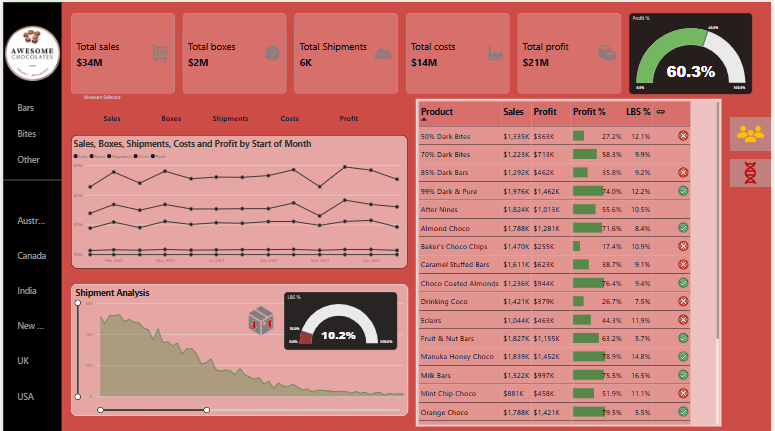

Layout of this report page (visuals, bound fields, positions):
{"tool":"powerbi","page":{"name":"Page 2","canvas":[1920,1080],"ordinal":0},"visuals":[{"type":"shape","box":[0,0,147.5,1080],"z":0},{"type":"cardVisual","fields":{"Data":["_Measures.Total sales","_Measures.Total boxes","_Measures.Total Shipments","_Measures.Total costs","_Measures.Total profit"]},"box":[170,27.5,1377.5,202.5],"z":1000},{"type":"gauge","fields":{"Y":["_Measures.% Profit"]},"box":[1565,27.5,307.5,202.5],"z":2000},{"type":"image","box":[0,27.5,147.5,202.5],"z":3000},{"type":"lineChart","fields":{"Y":["_Measures.Total sales","_Measures.Total boxes","_Measures.Total Shipments","_Measures.Total costs","_Measures.Total profit"],"Category":["calendar.Start of Month"]},"box":[170,332,842,334],"z":4000},{"type":"advancedSlicerVisual","fields":{"Values":["Measure Selector.Measure Selector"]},"box":[197.5,230,742.5,102.5],"z":5000},{"type":"stackedAreaChart","title":"Shipment Analysis","fields":{"Category":["shipments.Boxes (bins)"],"Y":["_Measures.Total Shipments"]},"box":[170,705,842.5,330],"z":6000},{"type":"gauge","fields":{"Y":["_Measures.LBS %"]},"box":[702.5,725,282.5,145],"z":7000},{"type":"image","box":[570,747.5,150,97.5],"z":8000},{"type":"tableEx","title":"Products Details","fields":{"Values":["products.Product","_Measures.Total sales","_Measures.Total profit","_Measures.% Profit","_Measures.LBS %","_Measures.Profit Target Indicator"]},"box":[1032.5,242.5,762.5,817.5],"z":10000},{"type":"image","title":"Products Icon","box":[1817.5,392.5,102.5,70],"z":11000},{"type":"image","title":"People Icon","box":[1817.5,287.5,102.5,85],"z":12000},{"type":"advancedSlicerVisual","fields":{"Values":["locations.Geo"]},"box":[17.5,500,112.5,535],"z":13000},{"type":"advancedSlicerVisual","fields":{"Values":["products.Category"]},"box":[17.5,230,112.5,197.5],"z":14000},{"type":"shape","box":[0,427.5,147.5,35],"z":15000}]}

Visuals, with their boxes in screenshot pixels (x1, y1, x2, y2):
shape: [0, 4, 58, 430]
cardVisual - _Measures.Total sales x _Measures.Total boxes: [67, 15, 610, 95]
gauge - _Measures.% Profit: [617, 15, 738, 95]
image: [0, 15, 58, 95]
lineChart - _Measures.Total sales x _Measures.Total boxes: [67, 135, 399, 267]
advancedSlicerVisual - Measure Selector.Measure Selector: [78, 95, 371, 135]
"Shipment Analysis" stackedAreaChart: [67, 282, 399, 412]
gauge - _Measures.LBS %: [277, 290, 388, 347]
image: [225, 299, 284, 337]
"Products Details" tableEx: [407, 100, 708, 422]
"Products Icon" image: [717, 159, 757, 186]
"People Icon" image: [717, 117, 757, 151]
advancedSlicerVisual - locations.Geo: [7, 201, 51, 412]
advancedSlicerVisual - products.Category: [7, 95, 51, 173]
shape: [0, 173, 58, 186]
